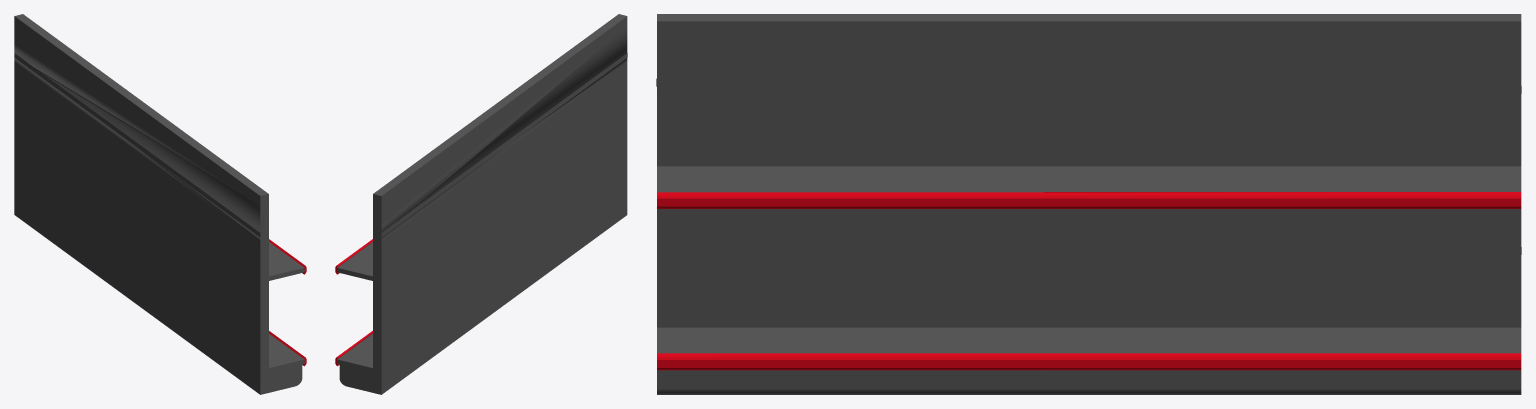
File: Double shefl Raft.fbx
3 renders of one model, left to right at view 1: azimuth 30°, elevation 25°; view 2: azimuth 150°, elevation 25°; view 3: azimuth 270°, elevation 25°, orthographic. The views are drawn at different scales.
Visible parts, largest first — view 1: Shelf_2; view 2: Shelf_2; view 3: Shelf_2.
Boxes of the visible parts, x1,y1,x2,y2 form: Shelf_2: [14, 14, 306, 394]; Shelf_2: [335, 14, 627, 394]; Shelf_2: [656, 14, 1521, 394].
Size of the model in its own units: 122 by 500 by 1121.
